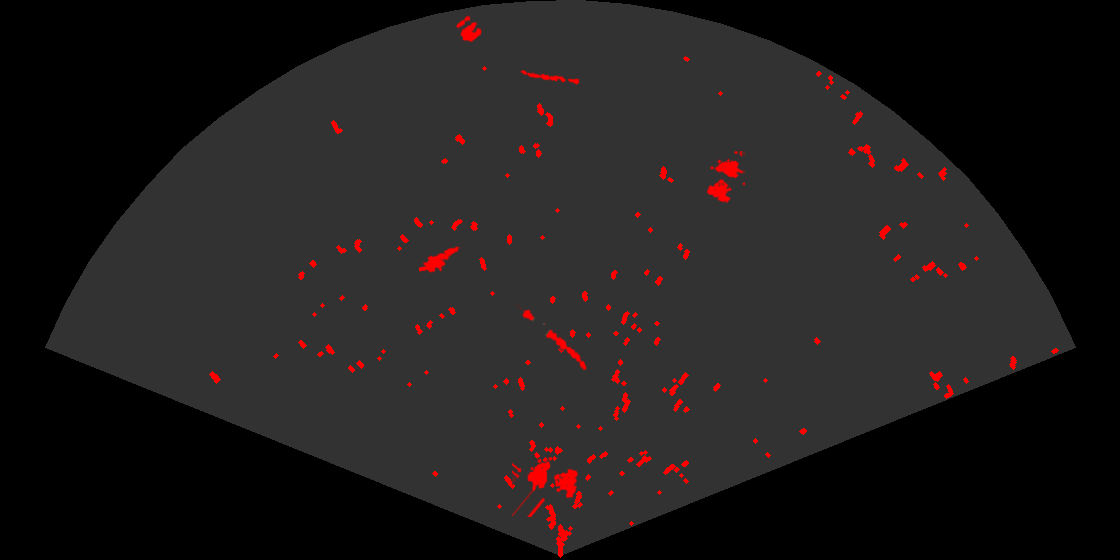ball: (455, 14, 483, 44)
cage: (512, 455, 580, 517), (705, 151, 745, 205)
chain: (516, 302, 588, 372), (519, 68, 580, 86)
frogman: (419, 245, 462, 274)
